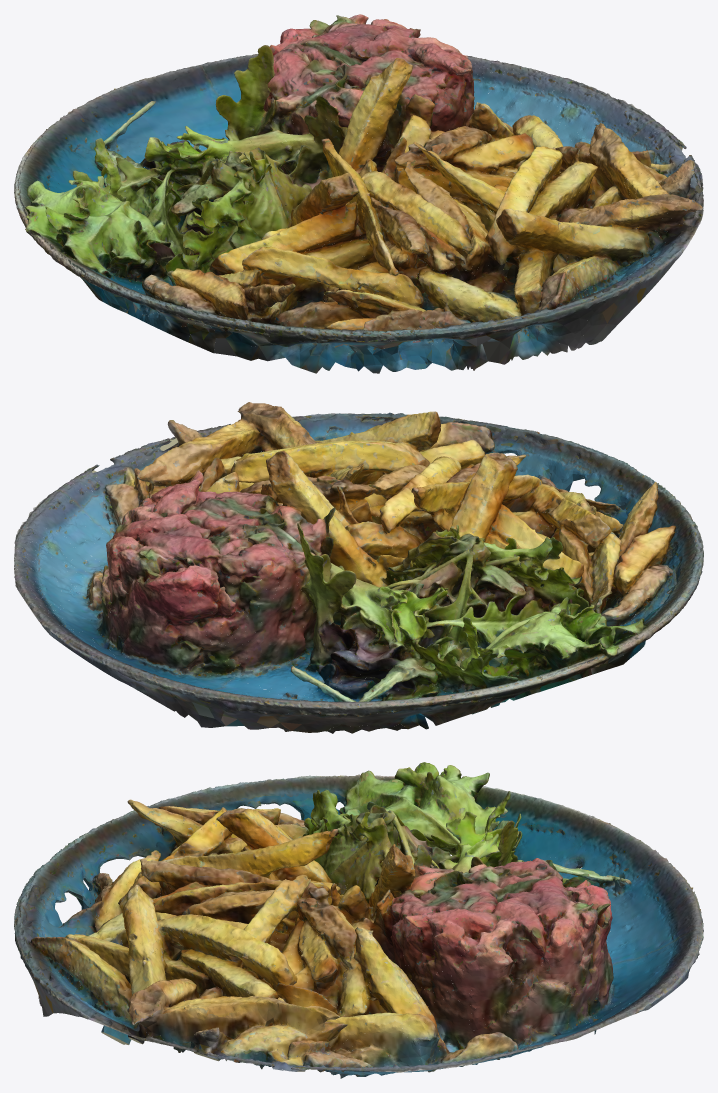
Rendered from steak-tartare-mobile.glb.
3 renders of one model, top to bottom at view 1: azimuth 30°, elevation 25°; view 2: azimuth 150°, elevation 25°; view 3: azimuth 270°, elevation 25°, orthographic.
Parts seen in each view (by area): view 1: Object_2, Object_6, Object_4, Object_7, Object_3, Object_5, Object_8; view 2: Object_7, Object_4, Object_6, Object_5, Object_2, Object_3, Object_8; view 3: Object_2, Object_3, Object_6, Object_7, Object_4, Object_5, Object_8.
Part boxes in pixels (bbox=[...]): Object_2: bbox=[77, 55, 703, 370]; Object_6: bbox=[27, 14, 627, 356]; Object_4: bbox=[14, 82, 683, 352]; Object_7: bbox=[17, 14, 703, 352]; Object_3: bbox=[202, 50, 668, 279]; Object_5: bbox=[14, 101, 376, 345]; Object_8: bbox=[217, 194, 692, 373]; Object_7: bbox=[14, 405, 591, 733]; Object_4: bbox=[149, 412, 703, 707]; Object_6: bbox=[106, 444, 633, 636]; Object_5: bbox=[277, 455, 681, 732]; Object_2: bbox=[14, 402, 703, 623]; Object_3: bbox=[14, 418, 482, 669]; Object_8: bbox=[248, 404, 700, 547]; Object_2: bbox=[14, 784, 639, 1071]; Object_3: bbox=[158, 810, 655, 1076]; Object_6: bbox=[148, 762, 607, 1050]; Object_7: bbox=[38, 806, 703, 1078]; Object_4: bbox=[146, 775, 694, 1045]; Object_5: bbox=[161, 762, 630, 888]; Object_8: bbox=[37, 804, 160, 1031].
Size of the model in its own units: 0.1785 by 0.0462 by 0.1795.
1 material, 1 textured.
